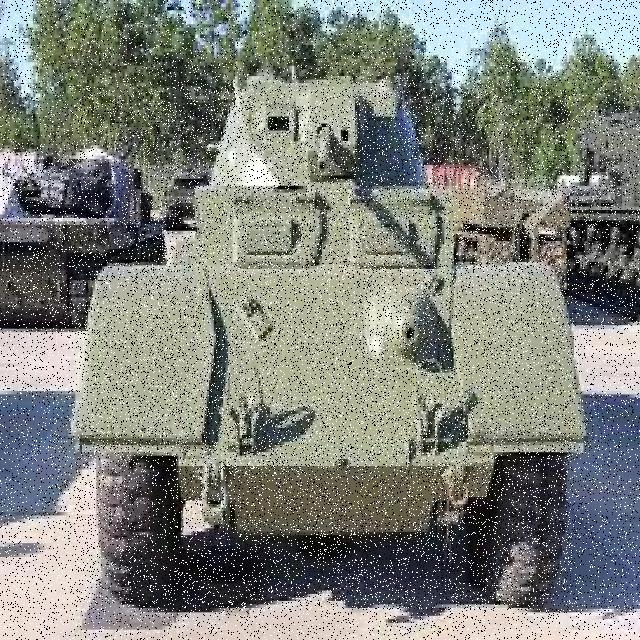MIL_MBT: (78, 88, 573, 610), (7, 141, 130, 323), (570, 105, 638, 319)
